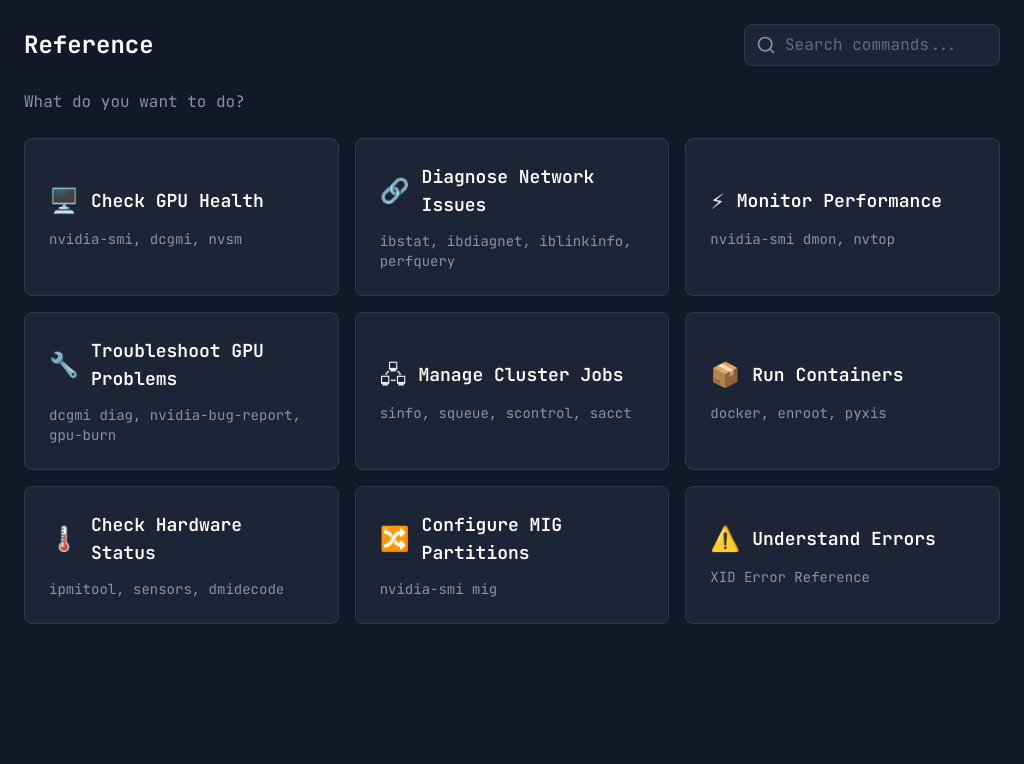
Test: ReferenceTab › shows XID Error Reference when 'Understand Errors' category is clicked
What coordinates should you click on to do the following:
click the heading "Understand Errors"
I would click on:
 (844, 539)
Its box is top-left (752, 525), bottom-right (936, 553).
(page scrolled)
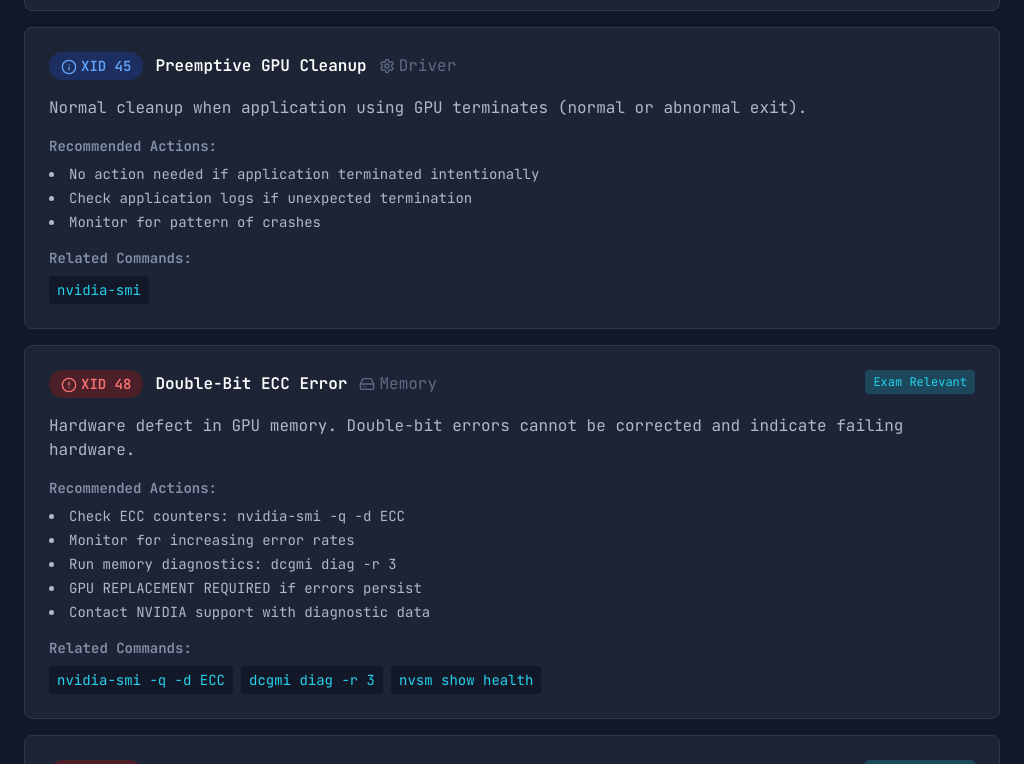
Expected: the text "XID 48" is shown, top-left (49, 370), bottom-right (143, 398)
